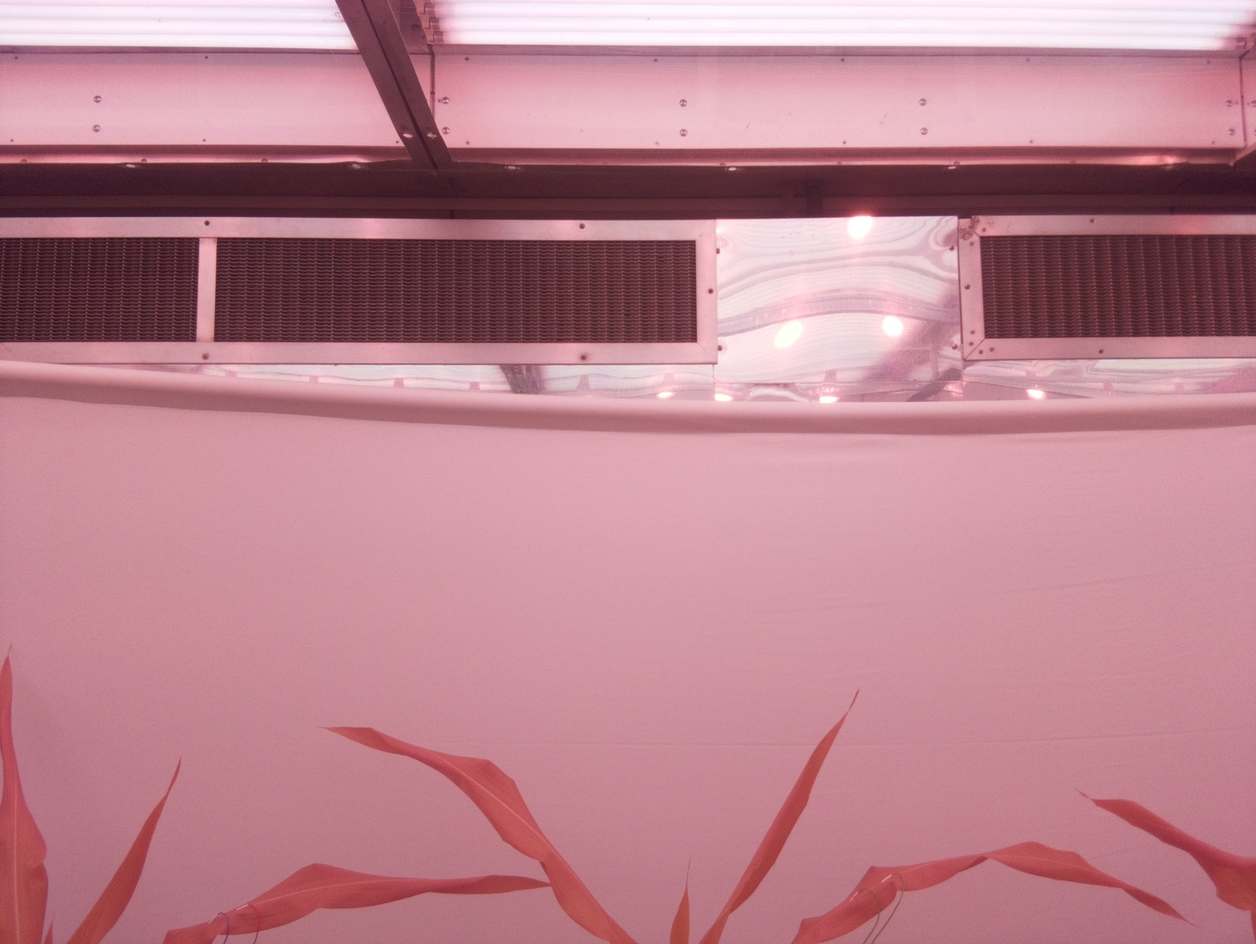maize: (162, 685, 1199, 944), (0, 644, 183, 944), (1078, 787, 1256, 944)
